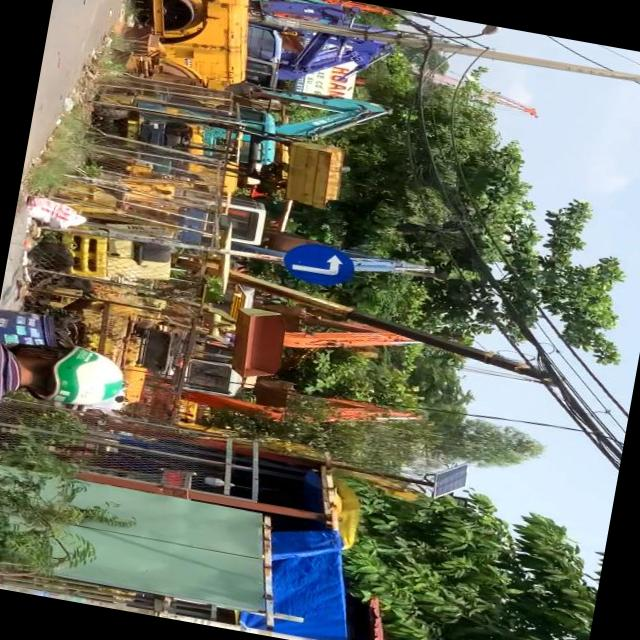R-301e: (280, 242, 356, 286)
